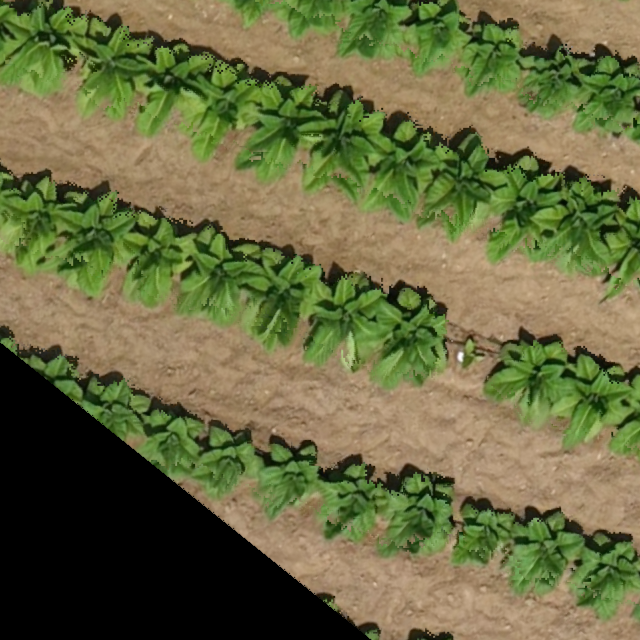healthy: (65, 88, 606, 571), (77, 91, 542, 551), (60, 72, 481, 534), (19, 100, 631, 412), (25, 112, 628, 416), (71, 98, 591, 395), (75, 94, 419, 510), (30, 42, 475, 354), (85, 86, 526, 371), (67, 81, 352, 498), (67, 81, 288, 474), (30, 115, 625, 244), (83, 118, 411, 335), (63, 72, 228, 455), (70, 112, 581, 225), (84, 104, 345, 318), (73, 117, 522, 212), (58, 75, 171, 438), (73, 106, 284, 295), (74, 111, 460, 176), (84, 102, 224, 276), (65, 111, 401, 167), (66, 71, 113, 407), (68, 56, 493, 91), (66, 104, 158, 255), (62, 37, 434, 72), (74, 33, 376, 65), (85, 116, 345, 143), (66, 103, 281, 126), (32, 99, 63, 219), (63, 78, 551, 84), (77, 112, 97, 241), (73, 16, 253, 29), (66, 95, 607, 99), (45, 49, 88, 96), (77, 86, 176, 102), (78, 66, 113, 111), (78, 103, 224, 106), (8, 37, 14, 73)
